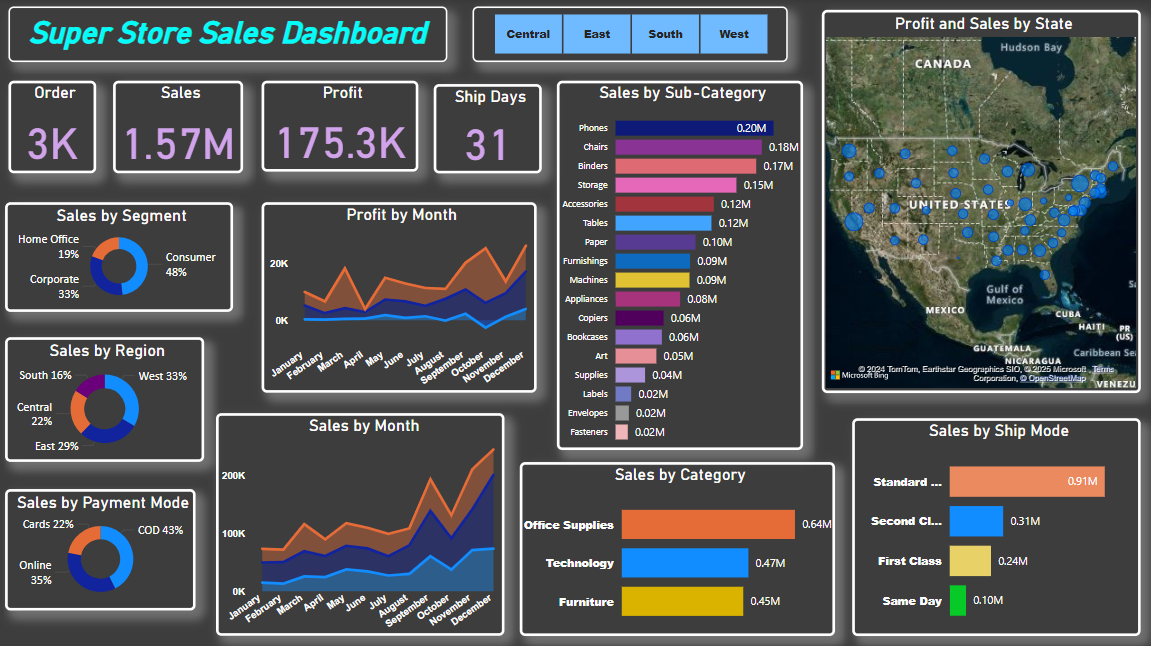

What the dashboard file says about the page in this screenshot:
{"tool":"powerbi","page":{"name":"Page 1","canvas":[1280,720],"ordinal":0},"visuals":[{"type":"textbox","box":[9.3,9.3,485.7,61.6],"z":0},{"type":"slicer","fields":{"Values":["Sheet1.Region"]},"box":[523,9.3,349.3,61.6],"z":1000},{"type":"donutChart","title":"Sales by Payment Mode","fields":{"Category":["Sheet1.Payment Mode"],"Y":["Sum(Sheet1.Sales)"]},"box":[5.6,543.6,211.1,134.5],"z":2000},{"type":"card","title":"Order","fields":{"Values":["Count(Sheet1.Order ID)"]},"box":[9.3,91.5,97.1,102.7],"z":3000},{"type":"card","title":"Sales","fields":{"Values":["Sum(Sheet1.Sales)"]},"box":[125.2,91.5,143.8,102.7],"z":4000},{"type":"card","title":"Profit","fields":{"Values":["Sum(Sheet1.Profit)"]},"box":[289.5,91.5,173.7,100.9],"z":5000},{"type":"card","title":"Ship Days","fields":{"Values":["Count(Sheet1.Ship Date.Variation.Date Hierarchy.Day)"]},"box":[480.1,95.3,119.6,99],"z":6000},{"type":"donutChart","title":"Sales by Region","fields":{"Category":["Sheet1.Region"],"Y":["Sum(Sheet1.Sales)"]},"box":[5.6,375.5,220.4,138.2],"z":7000},{"type":"donutChart","title":"Sales by Segment","fields":{"Category":["Sheet1.Segment"],"Y":["Sum(Sheet1.Sales)"]},"box":[5.6,226,252.2,121.4],"z":8000},{"type":"stackedAreaChart","title":"Sales by Month","fields":{"Category":["Sheet1.Order Date.Variation.Date Hierarchy.Month"],"Y":["Sum(Sheet1.Sales)"],"Series":["Sheet1.Category"]},"box":[239.1,459.5,319.4,246.6],"z":9000},{"type":"stackedAreaChart","title":"Profit by Month","fields":{"Category":["Sheet1.Order Date.Variation.Date Hierarchy.Month"],"Y":["Sum(Sheet1.Profit)"],"Series":["Sheet1.Category"]},"box":[289.5,226,304.5,211.1],"z":10000},{"type":"clusteredBarChart","title":"Sales by Ship Mode","fields":{"Category":["Sheet1.Ship Mode"],"Y":["Sum(Sheet1.Sales)"]},"box":[943.3,465.1,319.4,241],"z":11000},{"type":"clusteredBarChart","title":"Sales by Category","fields":{"Category":["Sheet1.Category"],"Y":["Sum(Sheet1.Sales)"]},"box":[575.3,513.7,349.3,192.4],"z":12000},{"type":"clusteredBarChart","title":"Sales by Sub-Category","fields":{"Category":["Sheet1.Sub-Category"],"Y":["Sum(Sheet1.Sales)"]},"box":[616.4,91.5,272.7,409.1],"z":13000},{"type":"map","title":"Profit and Sales by State","fields":{"Category":["Sheet1.State"],"Size":["Sum(Sheet1.Profit)"]},"box":[909.7,13.1,353.1,424],"z":14000}]}

Visuals, with their boxes in screenshot pixels (x1, y1, x2, y2), scaled from the page's 1280x720 canvas onto the 1151x646 screenshot:
textbox: region(8, 8, 445, 64)
slicer - Sheet1.Region: region(470, 8, 784, 64)
"Sales by Payment Mode" donutChart: region(5, 488, 195, 608)
"Order" card: region(8, 82, 96, 174)
"Sales" card: region(113, 82, 242, 174)
"Profit" card: region(260, 82, 417, 173)
"Ship Days" card: region(432, 86, 539, 174)
"Sales by Region" donutChart: region(5, 337, 203, 461)
"Sales by Segment" donutChart: region(5, 203, 232, 312)
"Sales by Month" stackedAreaChart: region(215, 412, 502, 634)
"Profit by Month" stackedAreaChart: region(260, 203, 534, 392)
"Sales by Ship Mode" clusteredBarChart: region(848, 417, 1135, 634)
"Sales by Category" clusteredBarChart: region(517, 461, 831, 634)
"Sales by Sub-Category" clusteredBarChart: region(554, 82, 799, 449)
"Profit and Sales by State" map: region(818, 12, 1136, 392)
